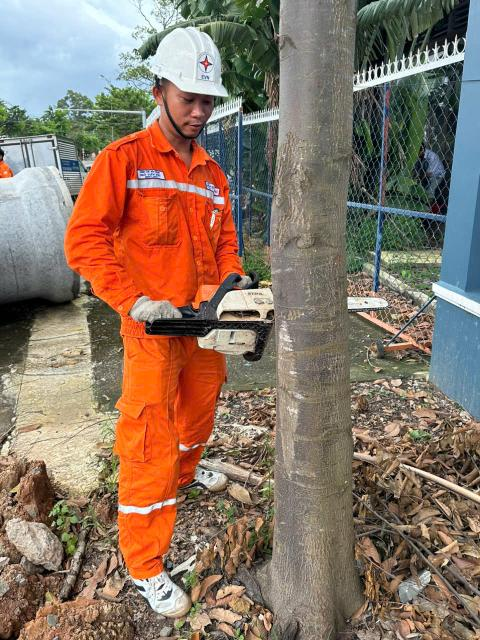gloves: (133, 295, 198, 344)
helmet: (151, 34, 238, 103)
shoes: (122, 549, 201, 631), (167, 459, 233, 498)
